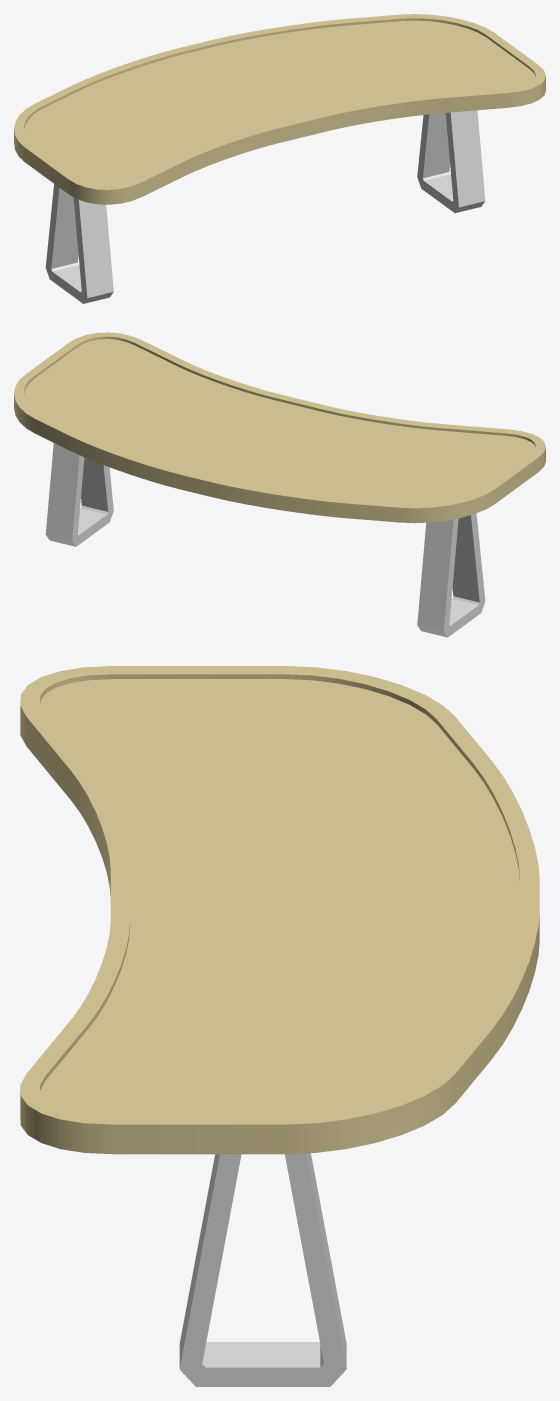
File: Table.fbx
3 renders of one model, top to bottom at view 1: azimuth 30°, elevation 25°; view 2: azimuth 150°, elevation 25°; view 3: azimuth 270°, elevation 25°, orthographic. The views are drawn at different scales.
Visible parts, largest first — view 1: Cube.015, Cube.016; view 2: Cube.015, Cube.016; view 3: Cube.015, Cube.016.
Boxes of the visible parts, left/top/right/bottom form: Cube.015: left=14, top=14, right=545, bottom=204; Cube.016: left=45, top=110, right=485, bottom=303; Cube.015: left=14, top=332, right=545, bottom=523; Cube.016: left=45, top=443, right=485, bottom=637; Cube.015: left=20, top=666, right=539, bottom=1154; Cube.016: left=179, top=1153, right=346, bottom=1386.
Bounding box in the file's own units: 405 × 122 × 194.
